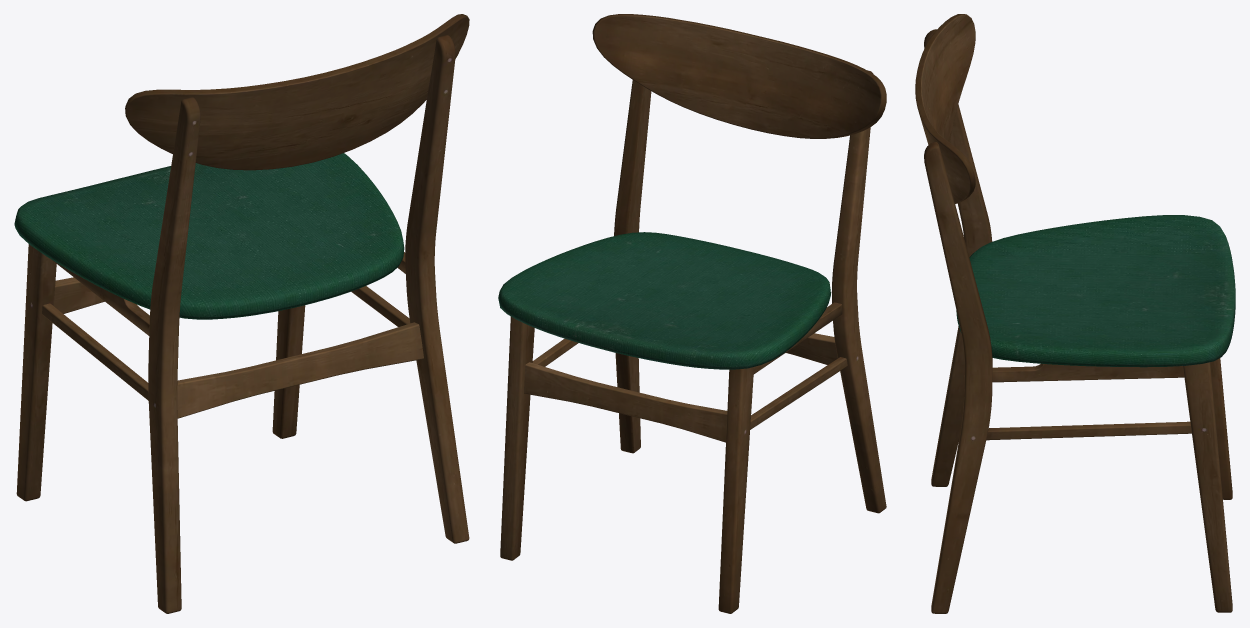
Rendered from chair.glb.
3 renders of one model, left to right at view 1: azimuth 30°, elevation 25°; view 2: azimuth 150°, elevation 25°; view 3: azimuth 270°, elevation 25°, orthographic. The views are drawn at different scales.
Visible parts, largest first — view 1: Chair_Chair_0; view 2: Chair_Chair_0; view 3: Chair_Chair_0.
Part boxes in pixels (<box>): Chair_Chair_0: <box>14,14,469,613</box>; Chair_Chair_0: <box>498,14,886,613</box>; Chair_Chair_0: <box>915,14,1235,613</box>.
Size of the model in its own units: 0.5229 by 0.7577 by 0.4671.
1 material, 1 textured.
